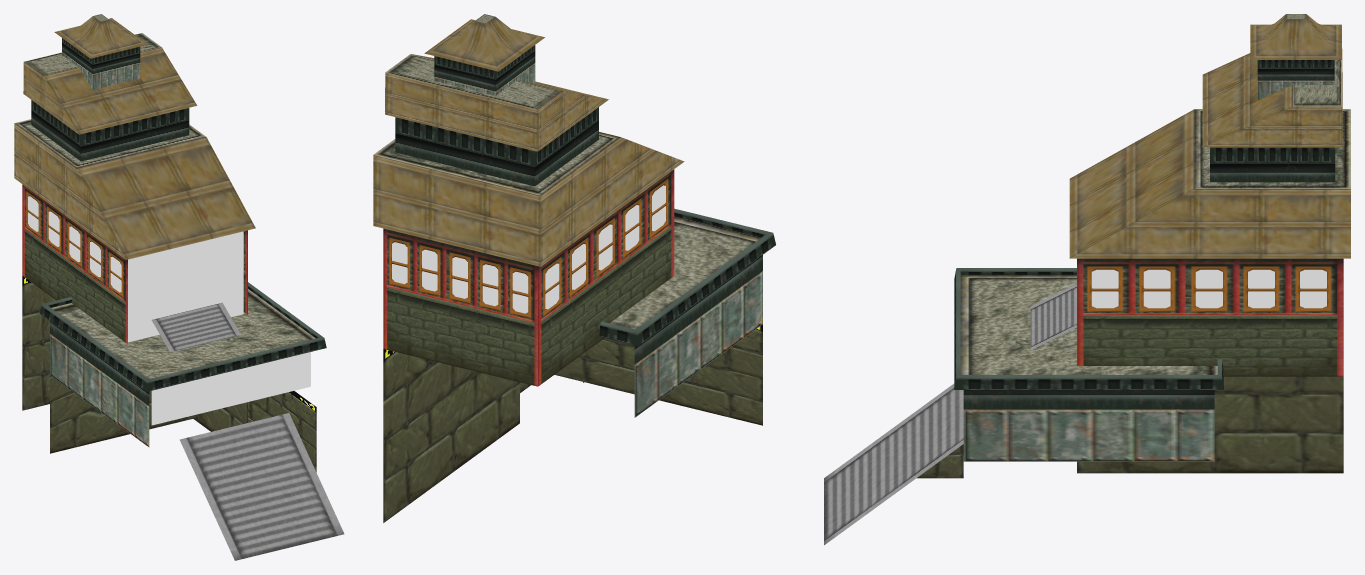
Rendered from l_palacecore.glb.
The picture shows the model from 3 angles, left to right: view 1: azimuth 30°, elevation 25°; view 2: azimuth 150°, elevation 25°; view 3: azimuth 270°, elevation 25°; orthographic projection. The views are drawn at different scales.
Parts seen in each view (by area): view 1: palace_core, LitWin_palace_core; view 2: palace_core, LitWin_palace_core; view 3: palace_core, LitWin_palace_core.
Boxes of the visible parts, x1,y1,x2,y2 form: palace_core: [14, 14, 344, 560]; LitWin_palace_core: [28, 196, 310, 425]; palace_core: [373, 14, 775, 522]; LitWin_palace_core: [392, 185, 665, 313]; palace_core: [824, 14, 1350, 545]; LitWin_palace_core: [1091, 269, 1326, 308].
Size of the model in its own units: 22.42 by 46.72 by 45.12.
Materials: 7 (7 with a texture image).
